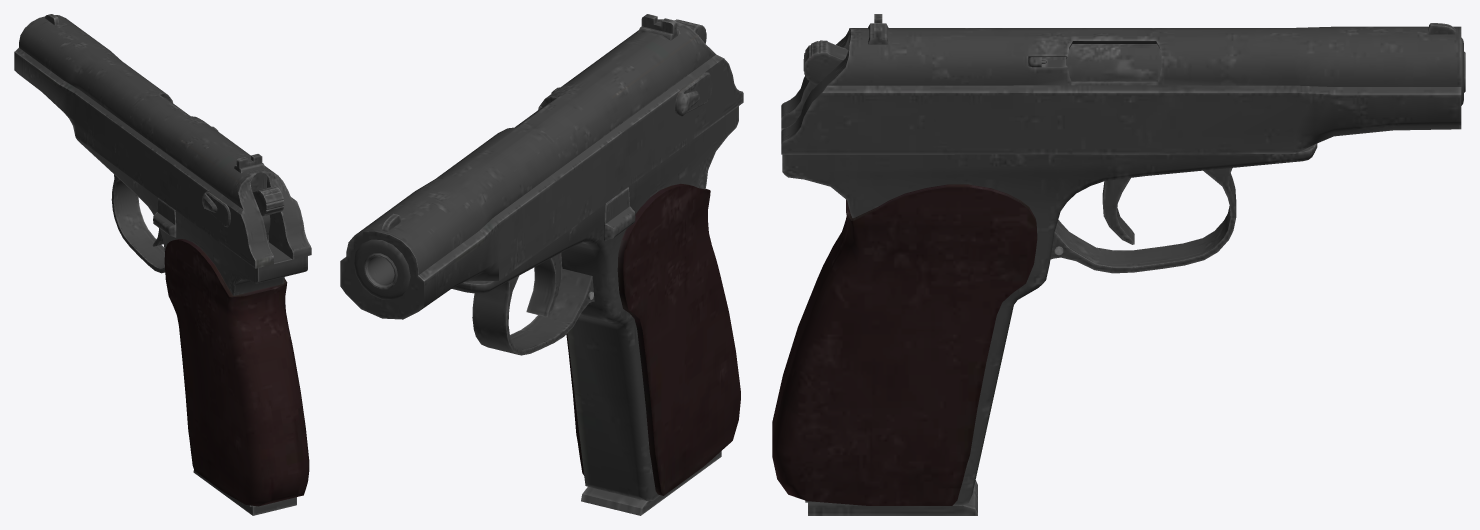
3 views of the same model, side by side, from view 1: azimuth 30°, elevation 25°; view 2: azimuth 150°, elevation 25°; view 3: azimuth 270°, elevation 25° (orthographic). The views are drawn at different scales.
Parts seen in each view (by area): view 1: govde, surgu, sarjor; view 2: govde, surgu, sarjor; view 3: govde, surgu, sarjor.
Part boxes in pixels (x1,y1,x2,y2): govde: (75, 98, 309, 506); surgu: (14, 14, 311, 268); sarjor: (193, 470, 296, 515); govde: (363, 19, 740, 500); surgu: (340, 14, 743, 319); sarjor: (581, 451, 721, 515); govde: (772, 40, 1465, 505); surgu: (781, 14, 1463, 154); sarjor: (808, 480, 977, 515).
Size of the model in its own units: 0.0321 by 0.1605 by 0.2106.
Materials: 1 (1 with a texture image).
